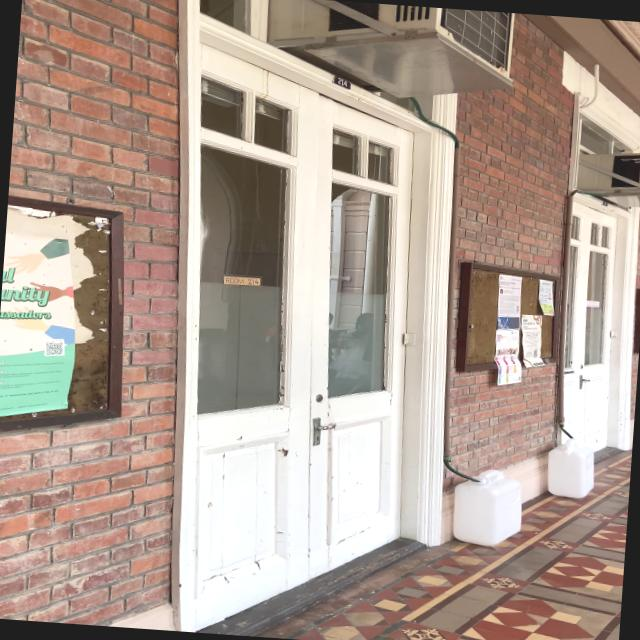room214: (332, 74, 352, 90)
room214Window: (217, 272, 266, 288)
